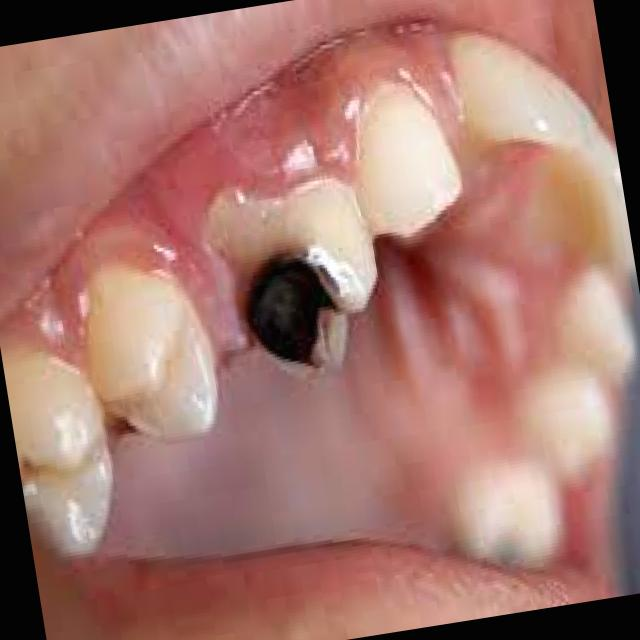caries: (225, 227, 368, 404)
